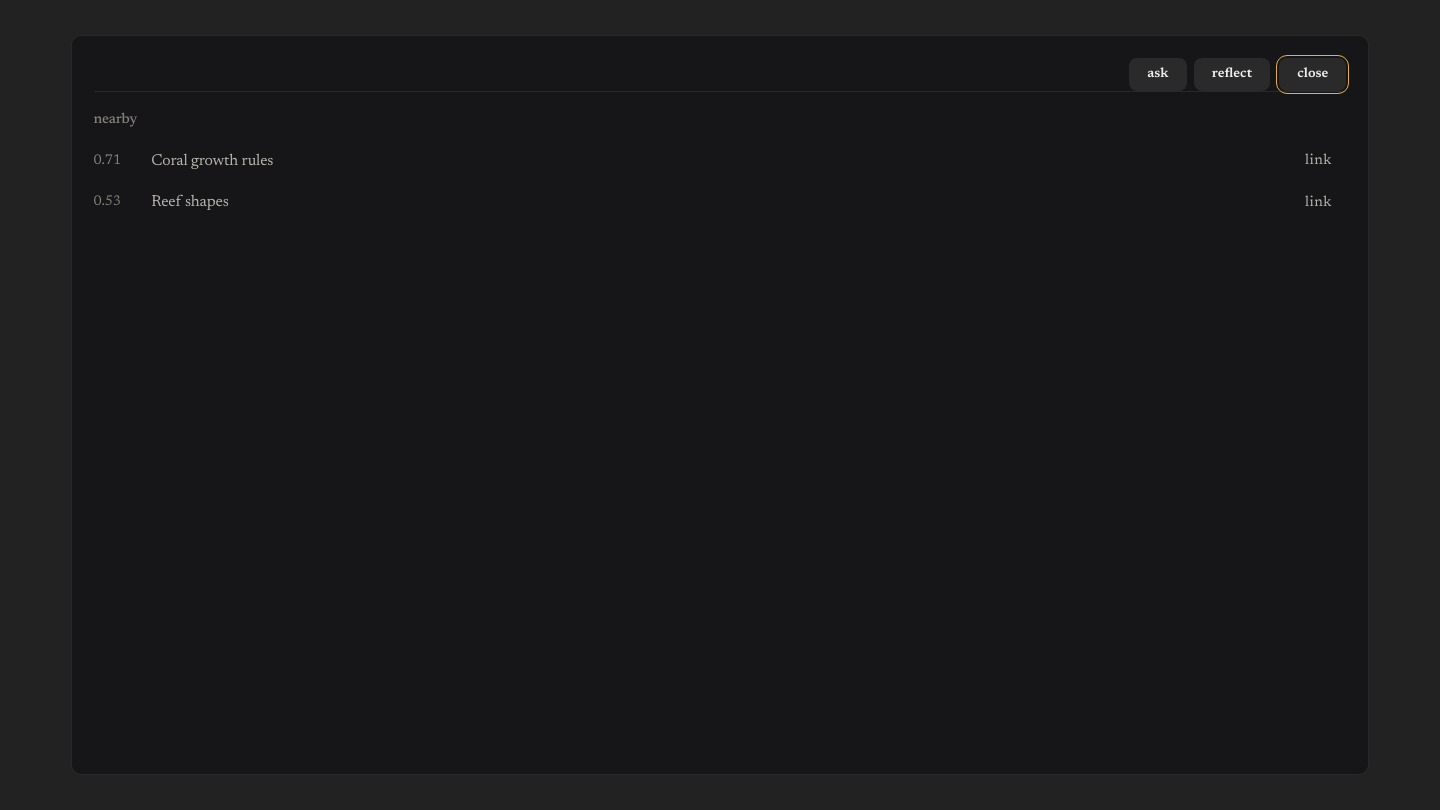
a refused tap shows the server's reason and keeps the neighbour
The image size is (1440, 810).
Step 1. Click the button with aria-label "link Reef shapes" → (1318, 202), box [1291,184,1346,220]
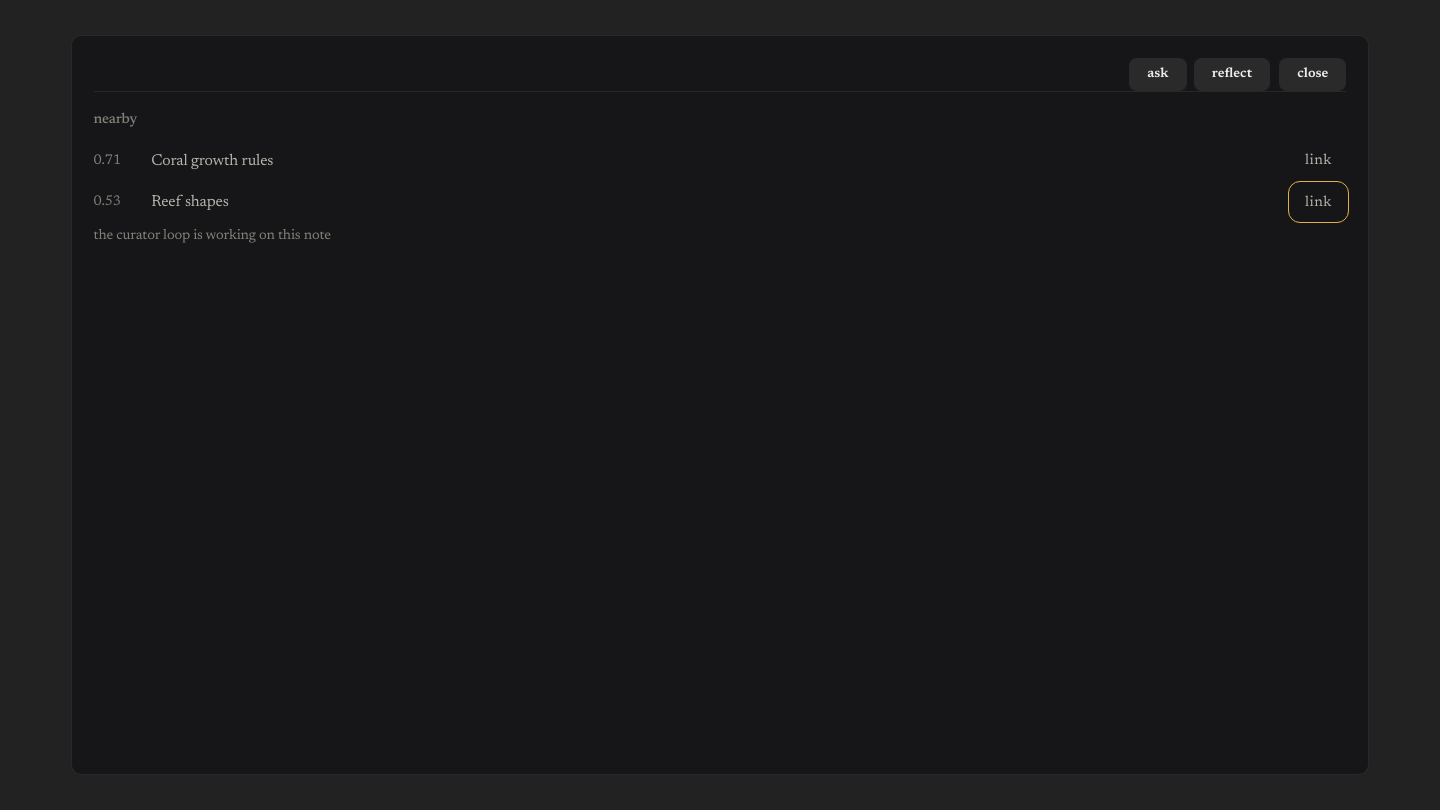
Now the element named "nearby notes" shows "the curator loop is working on this note", box [94,229,331,243]
